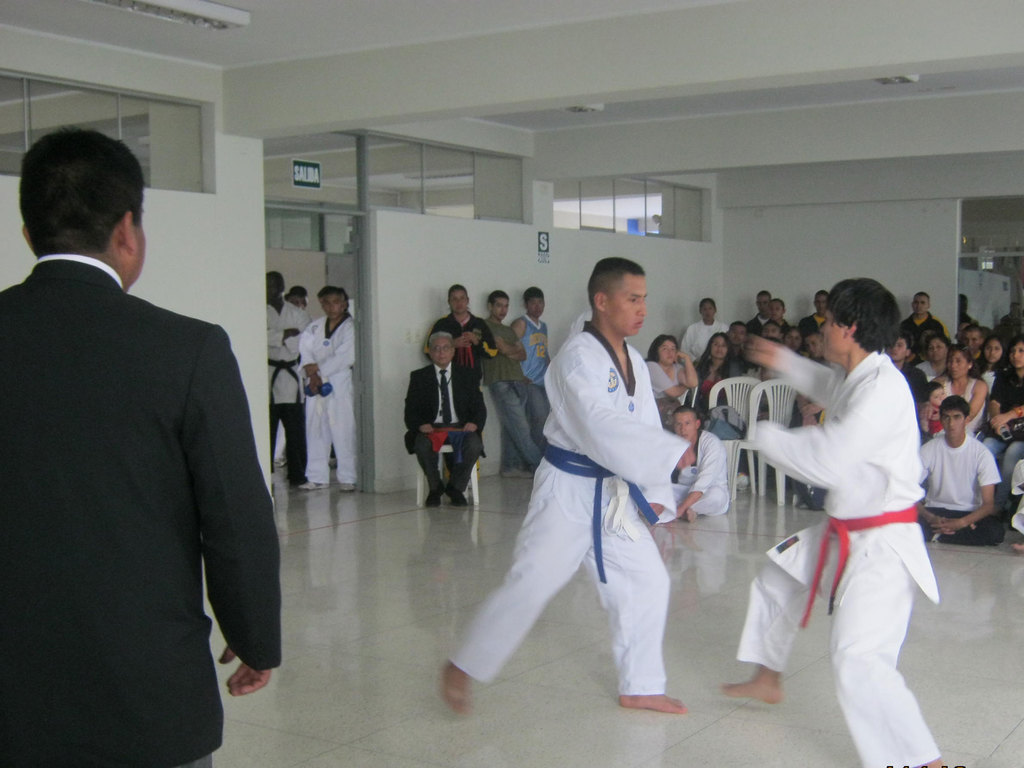Person: (0, 126, 280, 768), (405, 295, 1024, 551), (438, 258, 689, 712), (718, 276, 940, 768), (299, 284, 356, 495), (267, 273, 309, 487), (288, 285, 312, 321)
